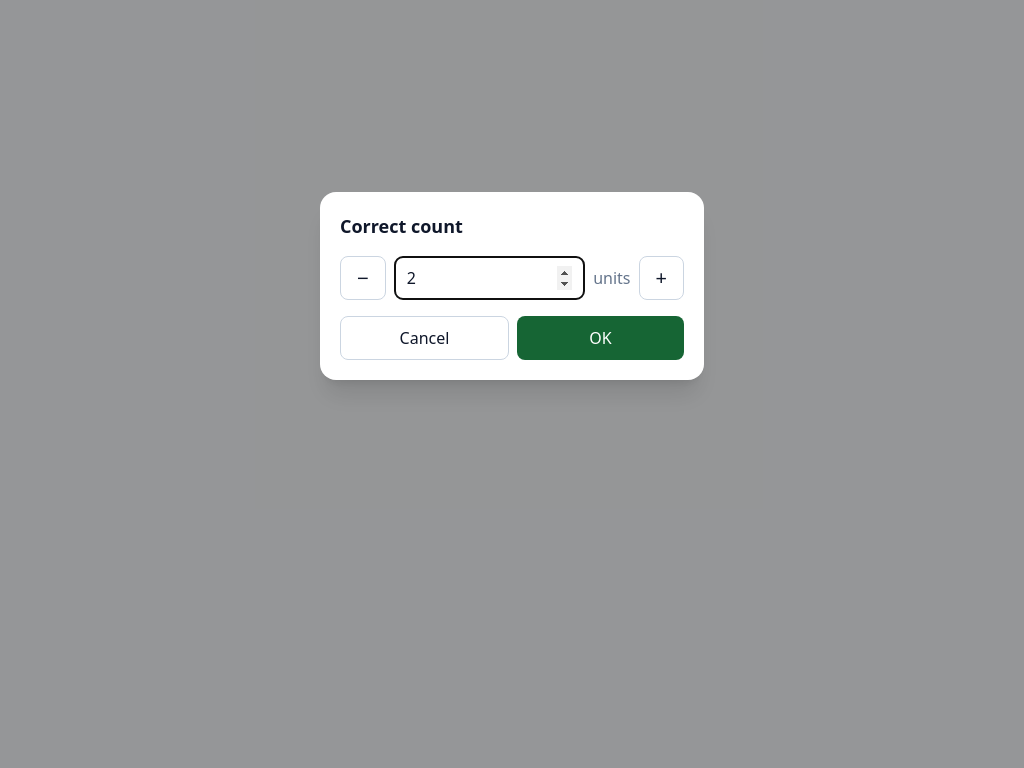
Test: QtyDialog stepper buttons › Decrease on a sub-step value stays put instead of jumping up to the step (2, step 8)
This screenshot has width=1024, height=768.
Step 1. Click the button named "Decrease" → (363, 278), box 340,256 -> 386,300
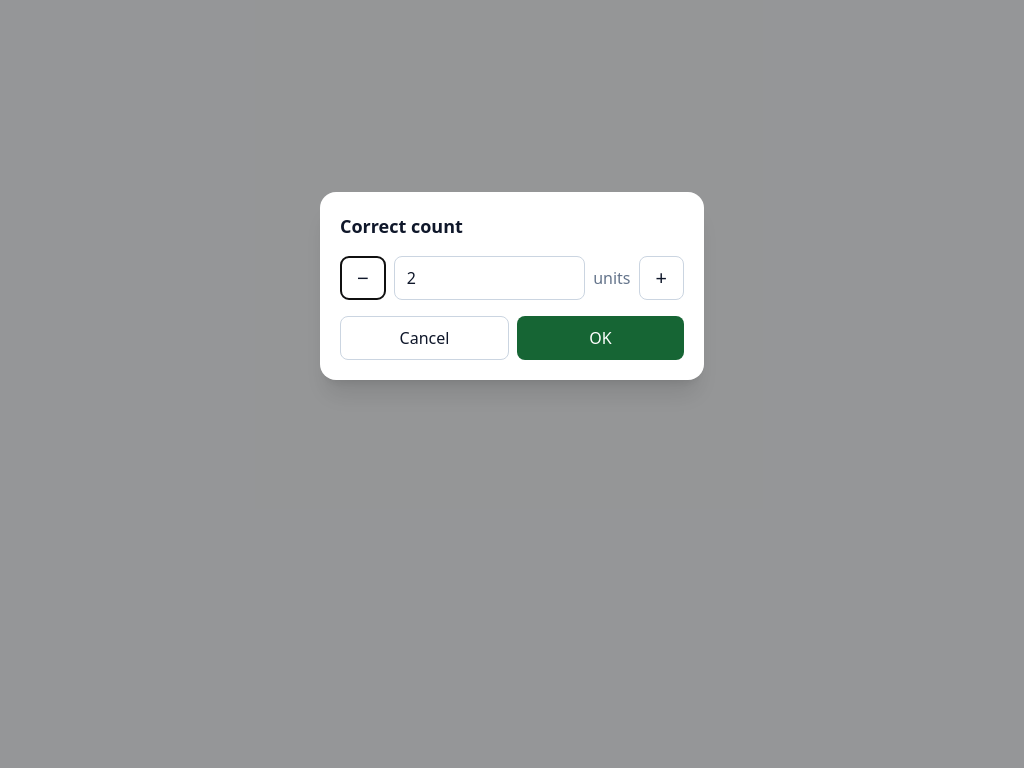
Check: the number field named "Quantity" holds "2", box 394,256 -> 585,300
Step 2. Click the button named "Increase" → (661, 278), box 638,256 -> 684,300
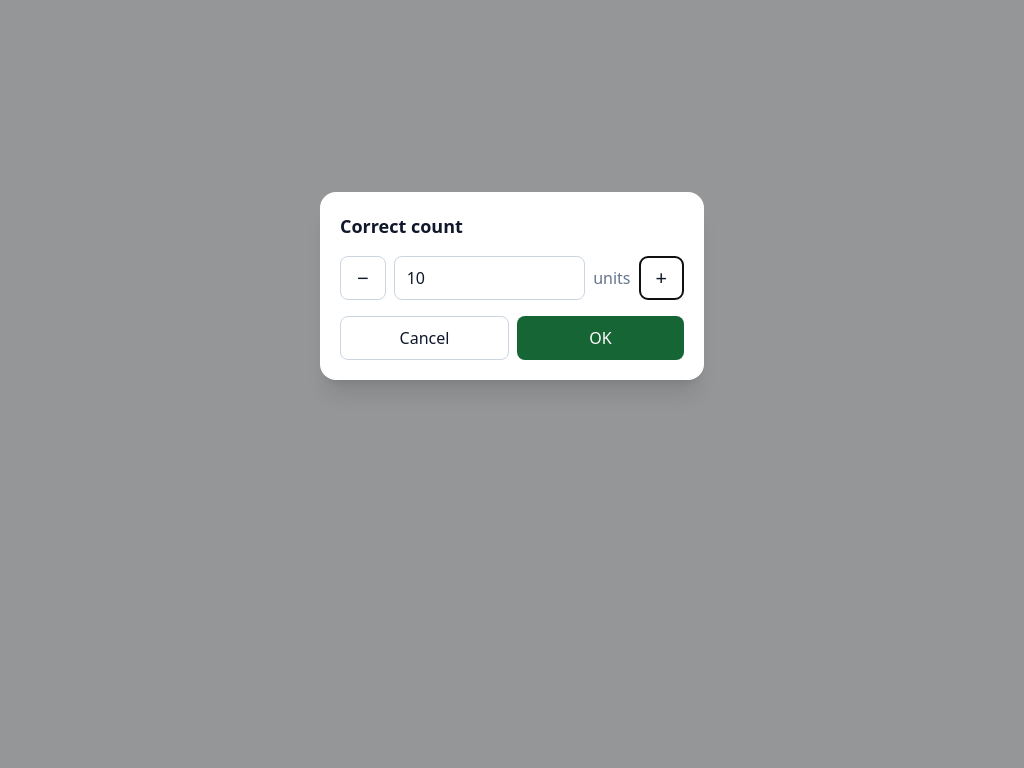
Check: the number field named "Quantity" holds "10", box 394,256 -> 585,300
